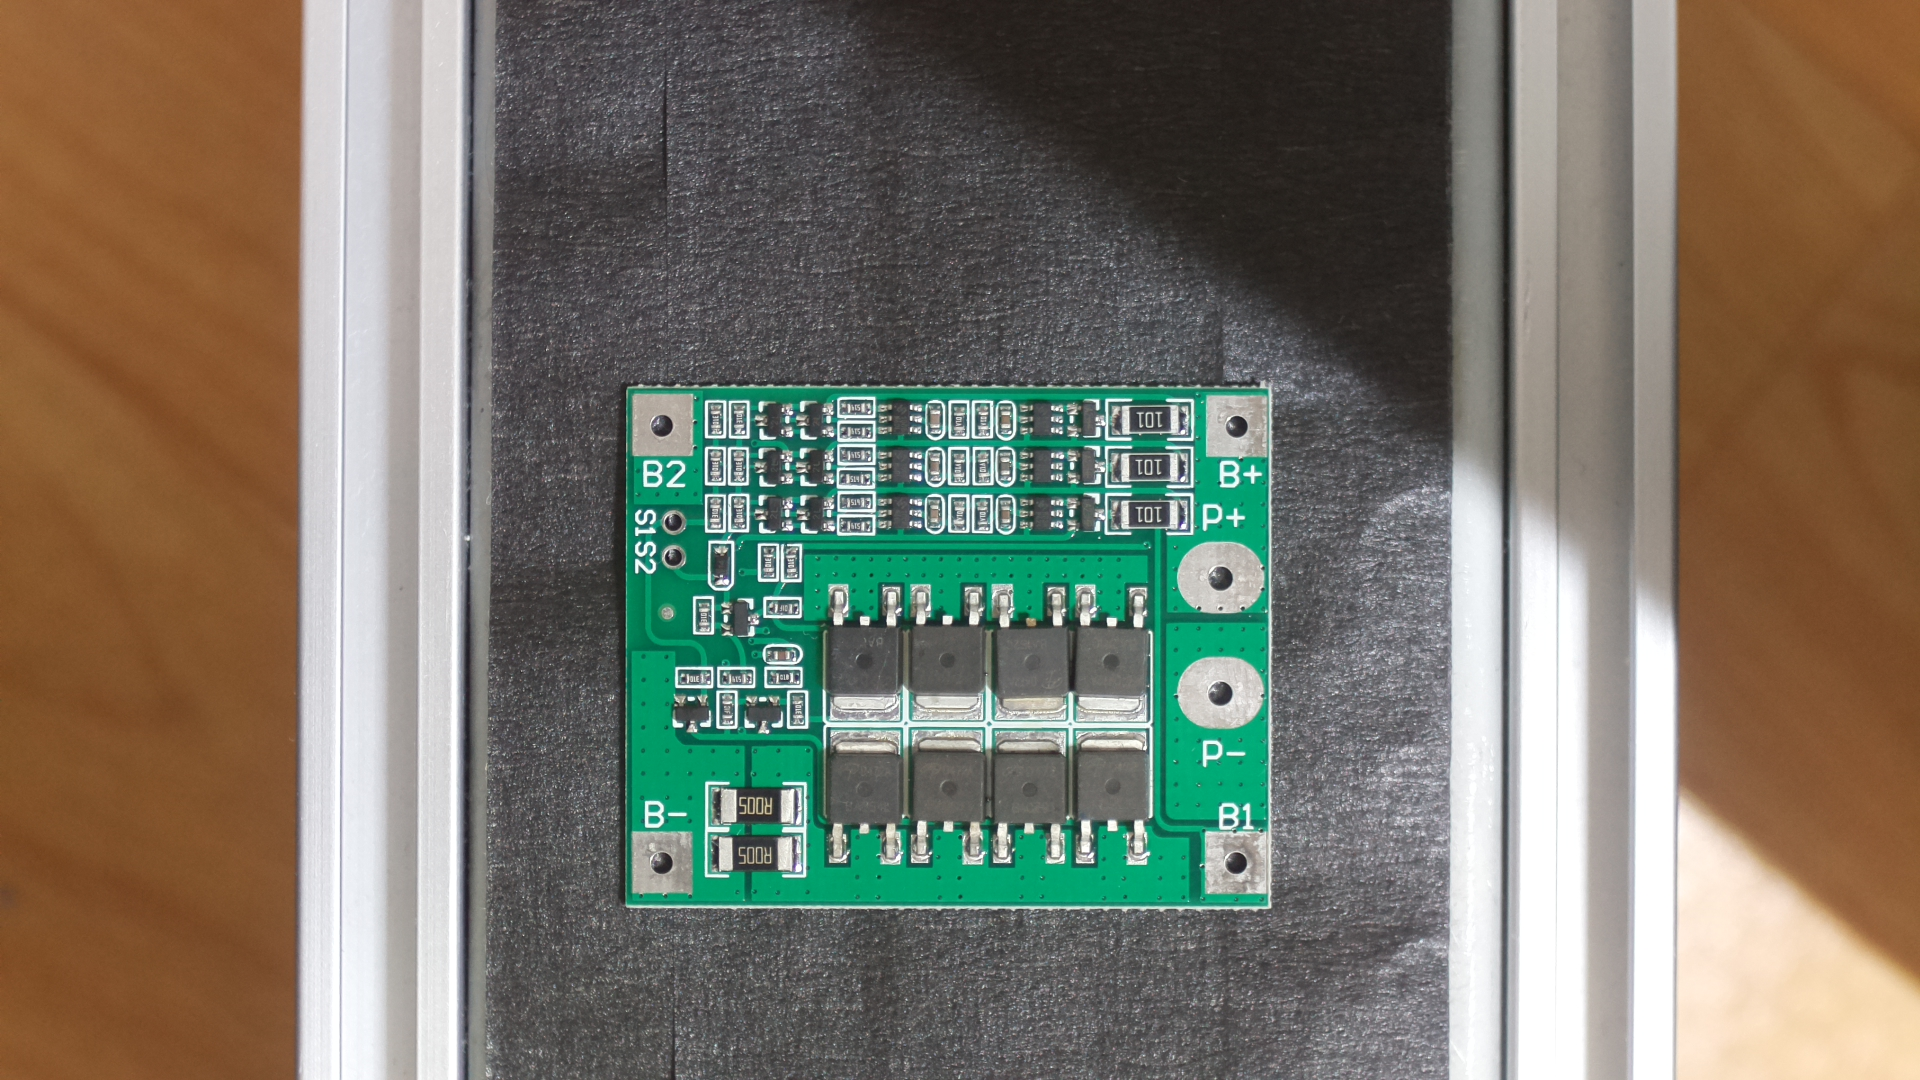C_Normal: (618, 364, 1290, 927)
